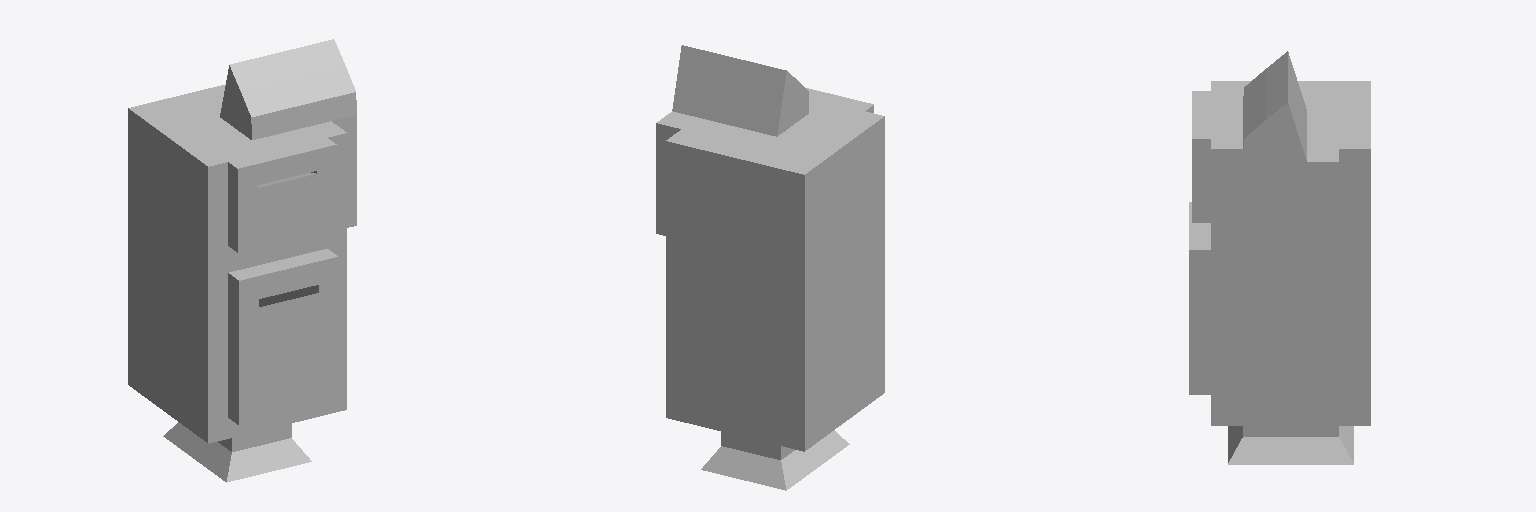
File: mail_box.obj
The picture shows the model from 3 angles: view 1: azimuth 30°, elevation 25°; view 2: azimuth 150°, elevation 25°; view 3: azimuth 270°, elevation 25°; orthographic projection.
Size of the model in its own units: 64.88 by 146 by 62.35.